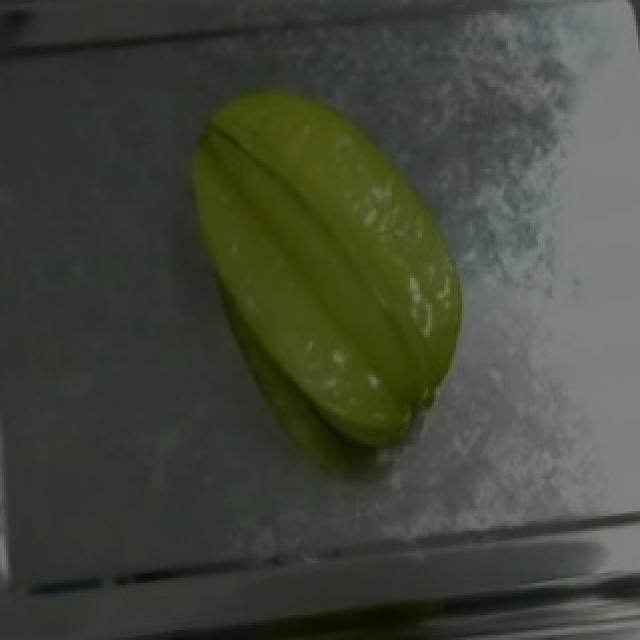fruit: (170, 74, 500, 457)
